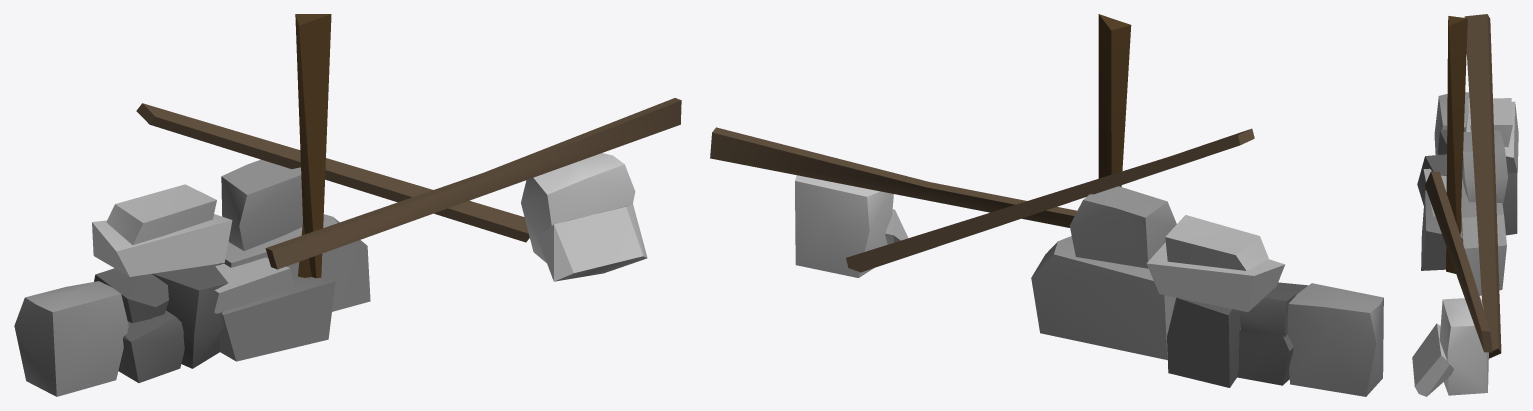
The model's file is EA03_Fence_rockDesk_01g.glb.
3 views of the same model, side by side, from view 1: azimuth 30°, elevation 25°; view 2: azimuth 150°, elevation 25°; view 3: azimuth 270°, elevation 25° (orthographic). The views are drawn at different scales.
Visible parts, largest first — view 1: EA03_Fence_rockDesk_01g; view 2: EA03_Fence_rockDesk_01g; view 3: EA03_Fence_rockDesk_01g.
Boxes of the visible parts, x1,y1,x2,y2 form: EA03_Fence_rockDesk_01g: (14, 14, 681, 396); EA03_Fence_rockDesk_01g: (710, 14, 1383, 396); EA03_Fence_rockDesk_01g: (1412, 14, 1518, 396).
Bounding box in the file's own units: 4.1 × 1.81 × 0.6863.
1 material, 1 textured.
